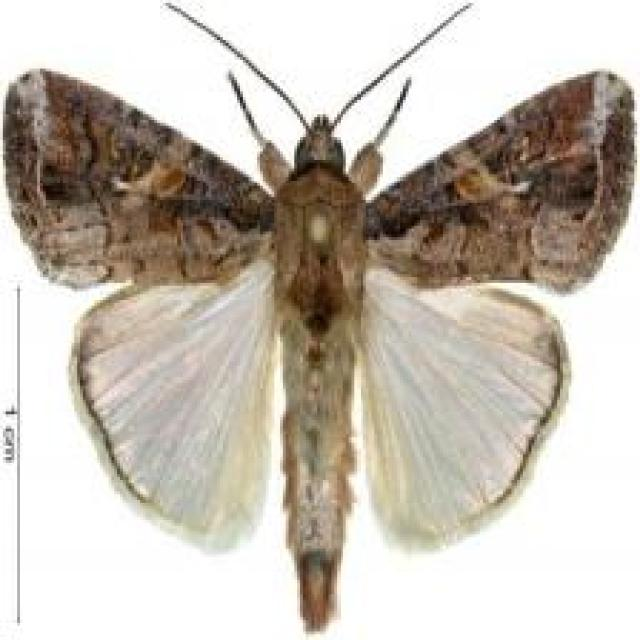Plaga: (5, 12, 637, 607)
